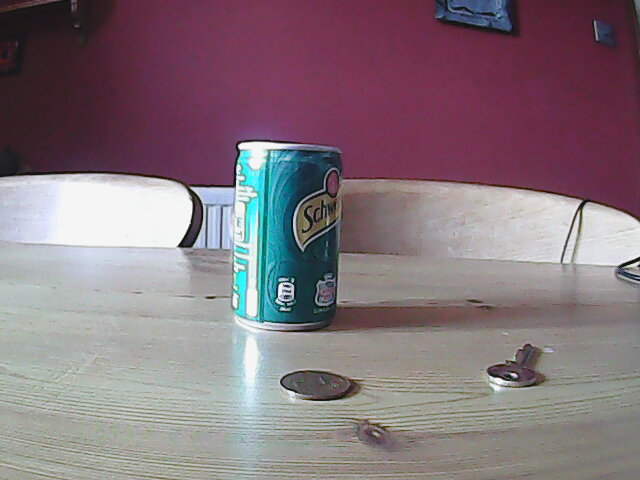Can: (230, 138, 341, 335)
Coin: (275, 367, 354, 402)
Key: (485, 330, 546, 395)
